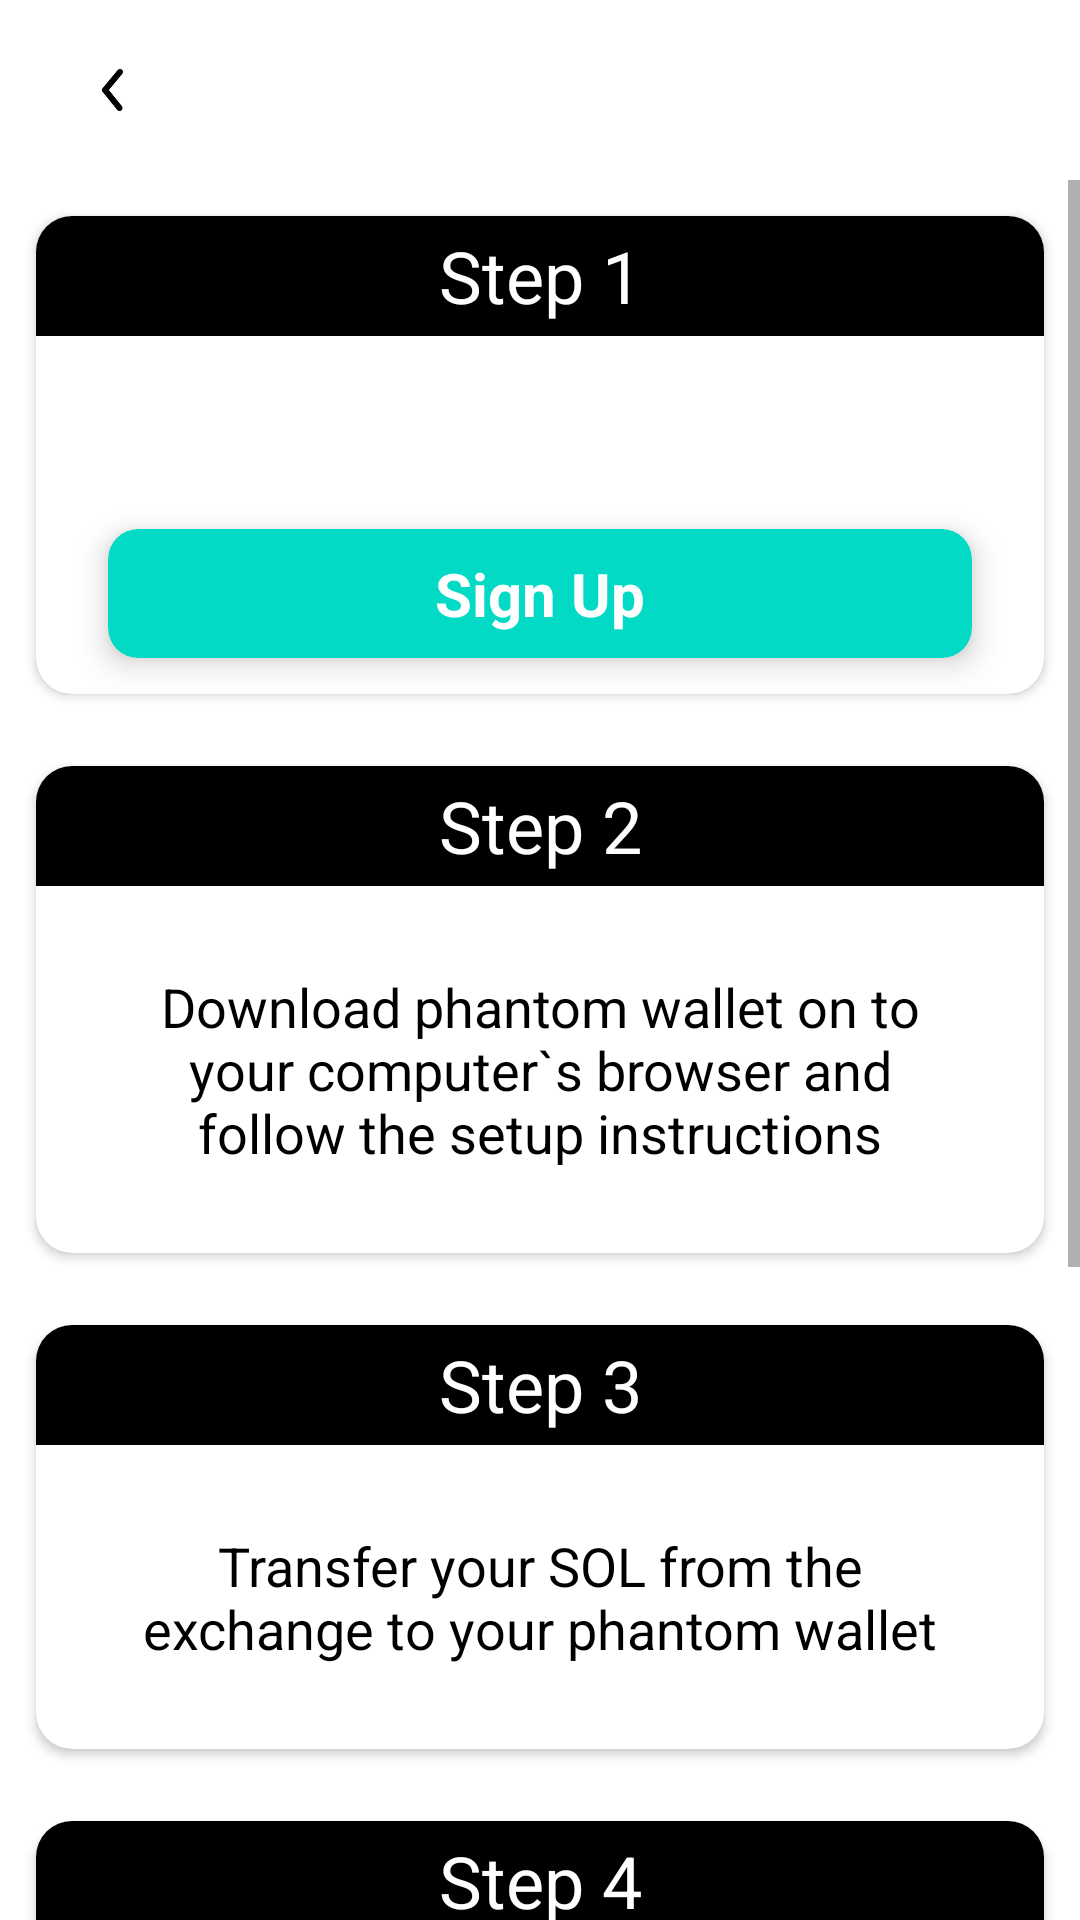

Icon click points for this 1080*1920 phone screenshot, format (x=x, y=y):
backarrow: (x=112, y=90)
